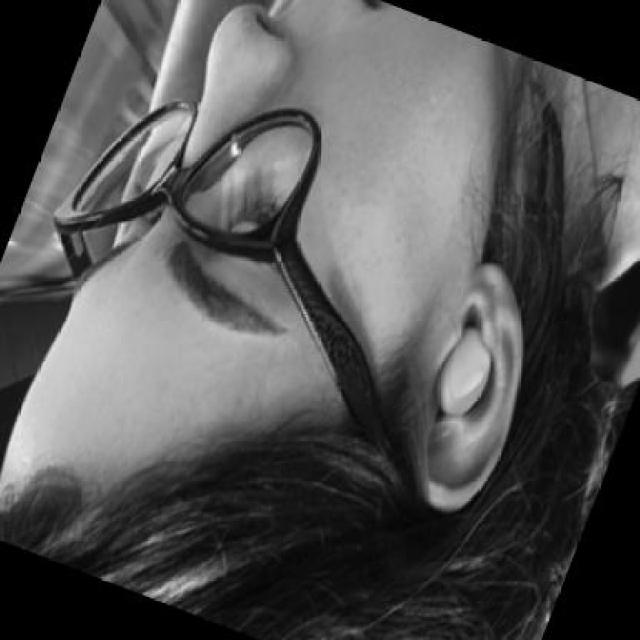earphone: (434, 317, 528, 442)
